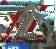Speed Breaker ahead: (1, 0, 52, 48)
